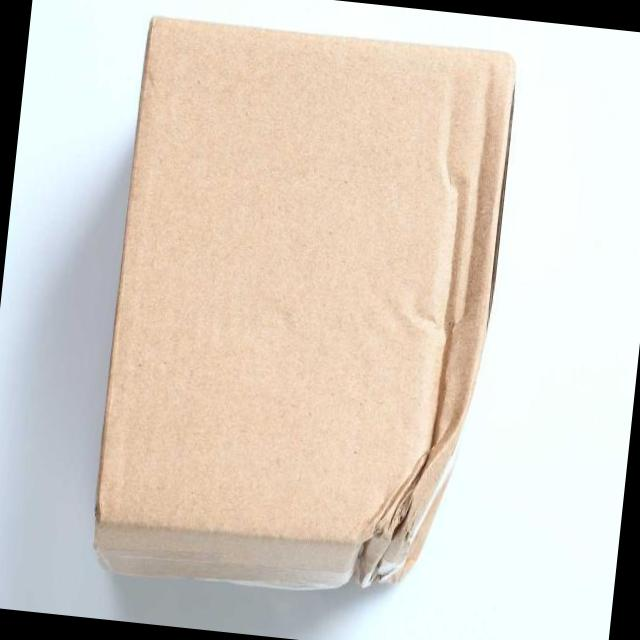box: (96, 18, 515, 595)
crushed: (337, 428, 464, 589)
